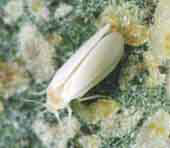whitefly: (25, 26, 126, 132)
